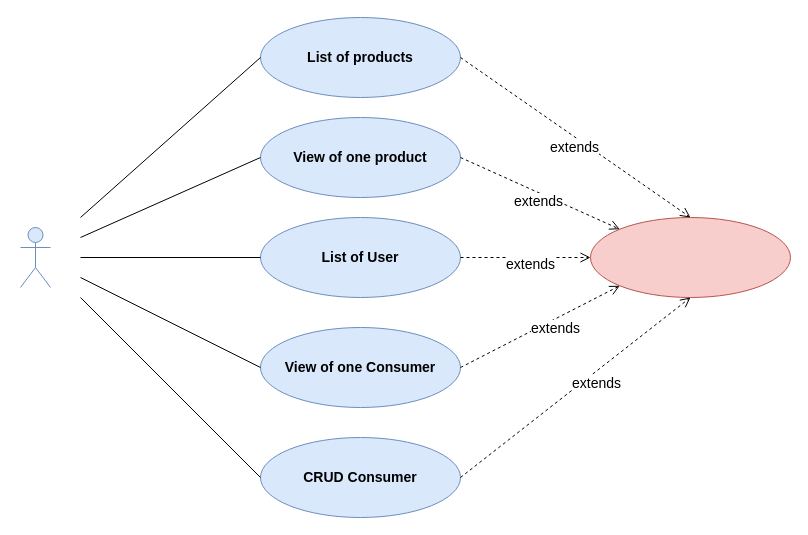
Image size: 808x535. Some labels were removed from this diagram. Here are the shapes that lost their labels. From the top down, the centre of each, then its label:
point (35, 257): Client
point (690, 257): Authentification JWT
